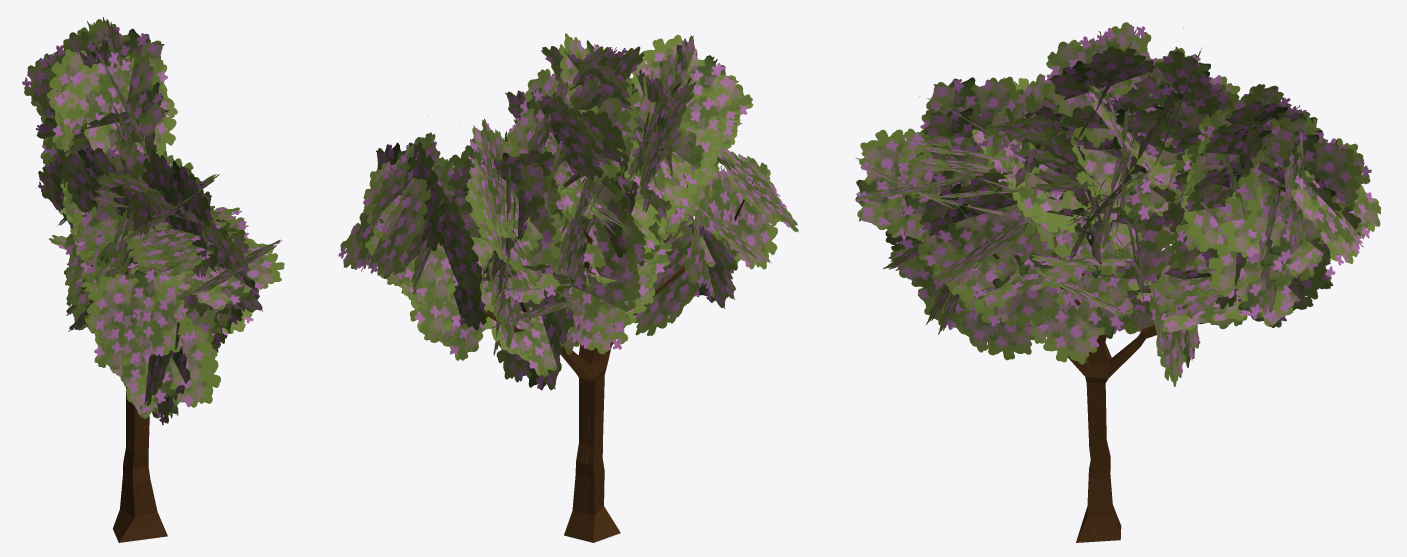
The model's file is quaresmeira.fbx.
The picture shows the model from 3 angles, left to right: view 1: azimuth 30°, elevation 25°; view 2: azimuth 150°, elevation 25°; view 3: azimuth 270°, elevation 25°; orthographic projection. The views are drawn at different scales.
Visible parts, largest first — view 1: Cube|Plane|Dupli|14, Cube|Plane|Dupli|140, Cube, Cube|Plane|Dupli|11, Cube|Plane|Dupli|32, Cube|Plane|Dupli|44, Cube|Plane|Dupli|128, Cube|Plane|Dupli|89, Cube|Plane|Dupli|52, Cube|Plane|Dupli|137, Cube|Plane|Dupli|41, Cube|Plane|Dupli|92 (+28 smaller); view 2: Cube, Cube|Plane|Dupli|12, Cube|Plane|Dupli|53, Cube|Plane|Dupli|197, Cube|Plane|Dupli|139, Cube|Plane|Dupli|7, Cube|Plane|Dupli|137, Cube|Plane|Dupli|14, Cube|Plane|Dupli|147, Cube|Plane|Dupli|177, Cube|Plane|Dupli|151, Cube|Plane|Dupli|185 (+49 smaller); view 3: Cube, Cube|Plane|Dupli|143, Cube|Plane|Dupli|3, Cube|Plane|Dupli|197, Cube|Plane|Dupli|191, Cube|Plane|Dupli|41, Cube|Plane|Dupli|183, Cube|Plane|Dupli|128, Cube|Plane|Dupli|17, Cube|Plane|Dupli|7, Cube|Plane|Dupli|44, Cube|Plane|Dupli|102 (+48 smaller).
Part boxes in pixels (x1,y1,x2,y2): Cube|Plane|Dupli|14: (85, 269, 193, 370); Cube|Plane|Dupli|140: (68, 54, 177, 157); Cube: (94, 101, 225, 542); Cube|Plane|Dupli|11: (95, 297, 215, 408); Cube|Plane|Dupli|32: (160, 228, 284, 310); Cube|Plane|Dupli|44: (142, 149, 207, 257); Cube|Plane|Dupli|128: (104, 51, 164, 154); Cube|Plane|Dupli|89: (59, 148, 148, 222); Cube|Plane|Dupli|52: (123, 206, 242, 256); Cube|Plane|Dupli|137: (47, 49, 129, 149); Cube|Plane|Dupli|41: (204, 226, 262, 313); Cube|Plane|Dupli|92: (93, 146, 201, 224); Cube: (487, 88, 753, 542); Cube|Plane|Dupli|12: (688, 158, 778, 270); Cube|Plane|Dupli|53: (632, 34, 738, 152); Cube|Plane|Dupli|197: (338, 177, 431, 278); Cube|Plane|Dupli|139: (556, 217, 646, 311); Cube|Plane|Dupli|7: (635, 217, 699, 335); Cube|Plane|Dupli|137: (505, 90, 603, 180); Cube|Plane|Dupli|14: (717, 147, 798, 232); Cube|Plane|Dupli|147: (496, 296, 574, 390); Cube|Plane|Dupli|177: (449, 145, 555, 243); Cube|Plane|Dupli|151: (483, 307, 569, 376); Cube|Plane|Dupli|185: (376, 141, 445, 250); Cube: (992, 198, 1342, 542); Cube|Plane|Dupli|143: (1046, 22, 1160, 147); Cube|Plane|Dupli|3: (1029, 296, 1135, 364); Cube|Plane|Dupli|197: (1291, 167, 1380, 265); Cube|Plane|Dupli|191: (1241, 125, 1362, 213); Cube|Plane|Dupli|41: (855, 128, 923, 243); Cube|Plane|Dupli|183: (1208, 233, 1335, 347); Cube|Plane|Dupli|128: (1049, 46, 1155, 99); Cube|Plane|Dupli|17: (929, 197, 1025, 269); Cube|Plane|Dupli|7: (934, 296, 1034, 360); Cube|Plane|Dupli|44: (921, 76, 1024, 133); Cube|Plane|Dupli|102: (1072, 144, 1176, 197).
Bounding box in the file's own units: 543 × 987 × 978.
